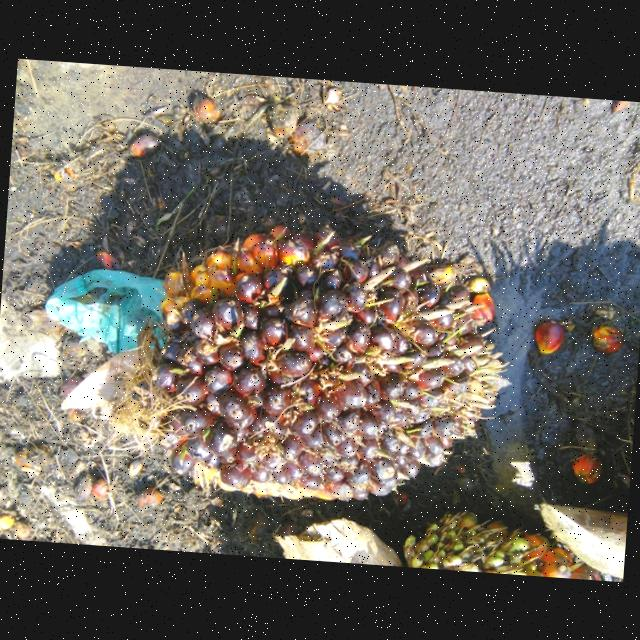Unripe: (105, 221, 505, 500)
